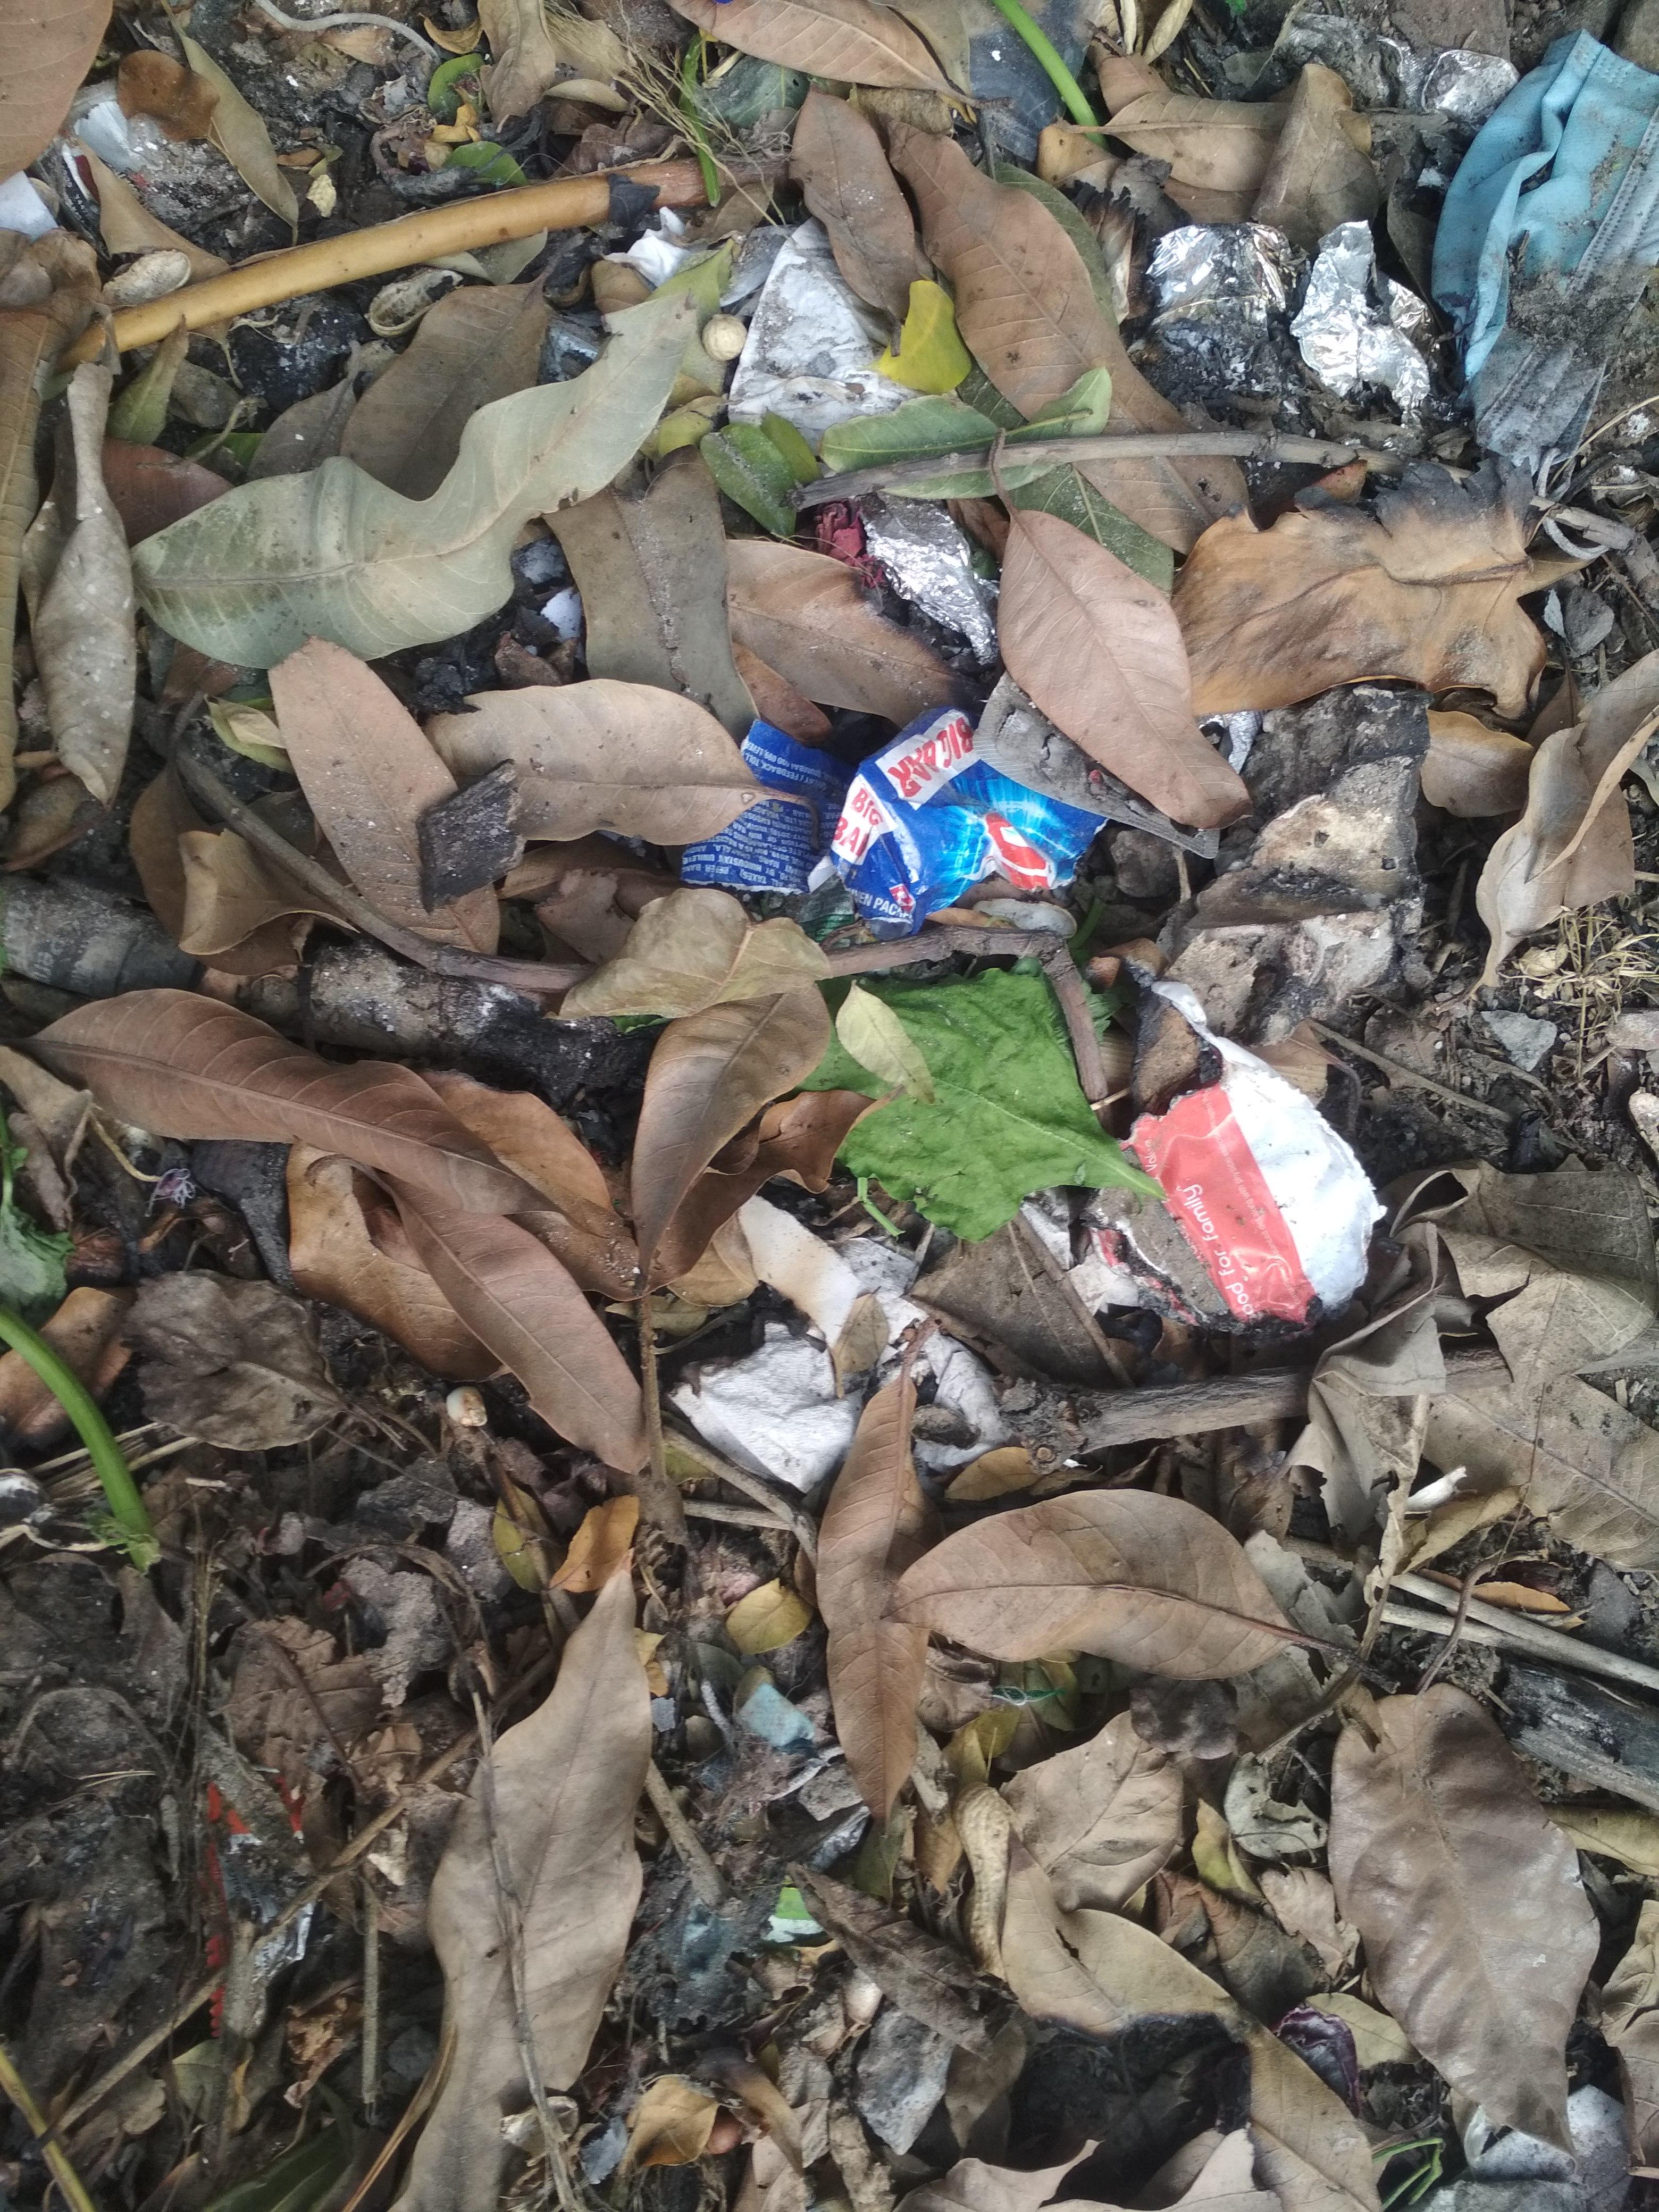trash: (657, 5, 1659, 1355)
